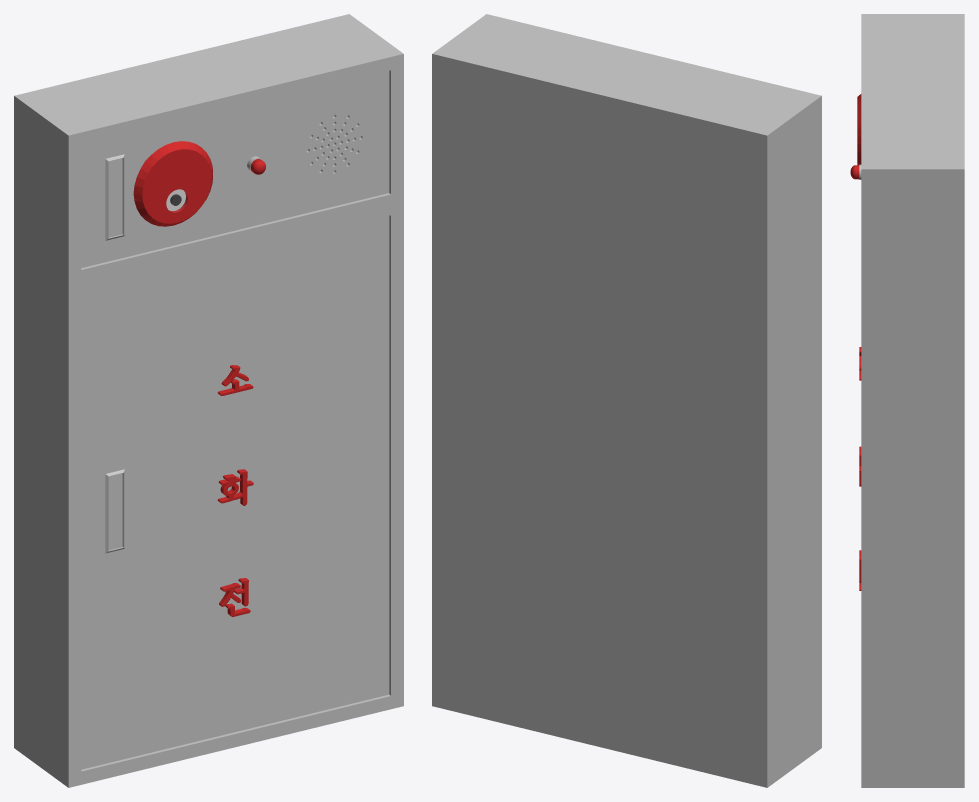
File: Hydrant.fbx
3 views of the same model, side by side, from view 1: azimuth 30°, elevation 25°; view 2: azimuth 150°, elevation 25°; view 3: azimuth 270°, elevation 25° (orthographic). The views are drawn at different scales.
Visible parts, largest first — view 1: pump_white; view 2: pump_white; view 3: pump_white.
Boxes of the visible parts, bbox=[...] form: pump_white: bbox=[14, 14, 403, 787]; pump_white: bbox=[432, 14, 821, 787]; pump_white: bbox=[850, 14, 964, 787].
Size of the model in its own units: 64 by 119 by 19.88.
